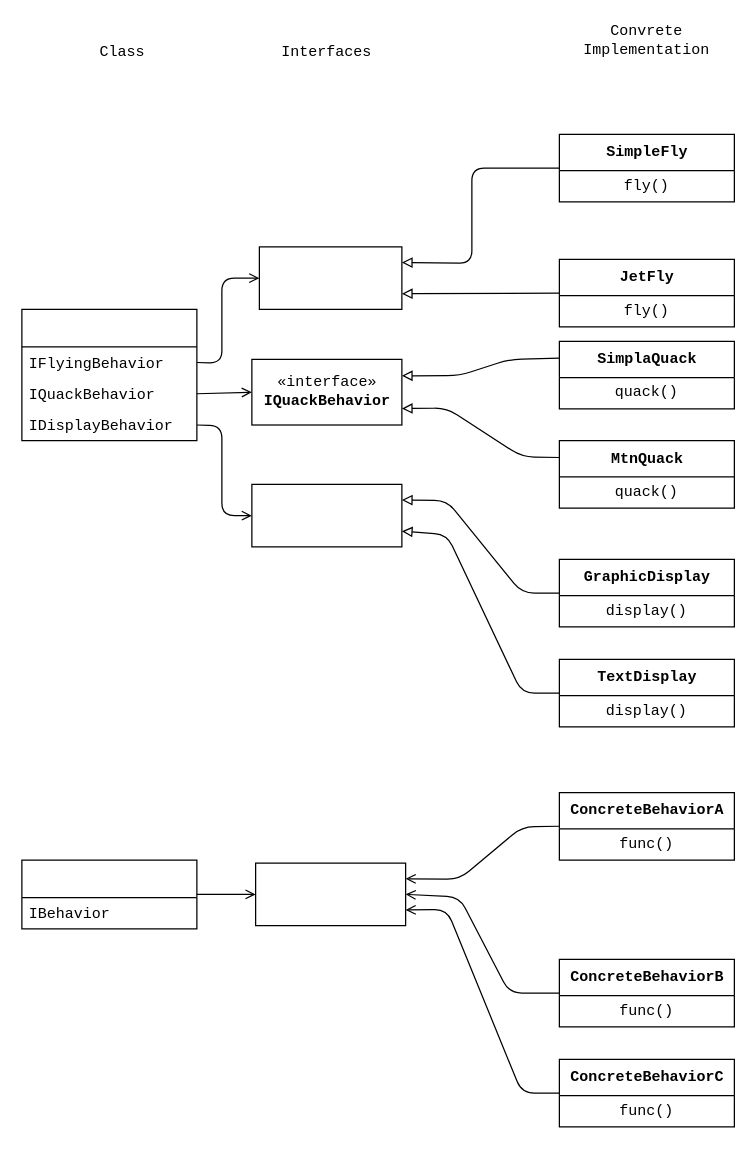
Some shapes in this 756 by 1149 pixel diagram are drawn without their labels. The box of each missing label's shape, as (x1, y1, x2, y2) in pixels:
Duck: (21, 308, 197, 441)
SomeClass: (21, 859, 197, 929)
«interface» IBehavior: (254, 862, 406, 926)
«interface» IDisplayBehavior: (251, 483, 402, 547)
«interface» IFlyingBehavior: (258, 246, 402, 309)
